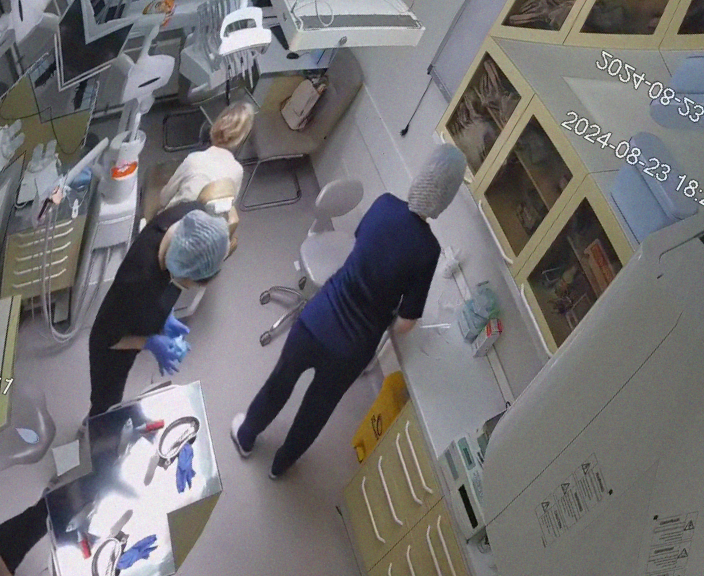Empty: (106, 129, 271, 297)
